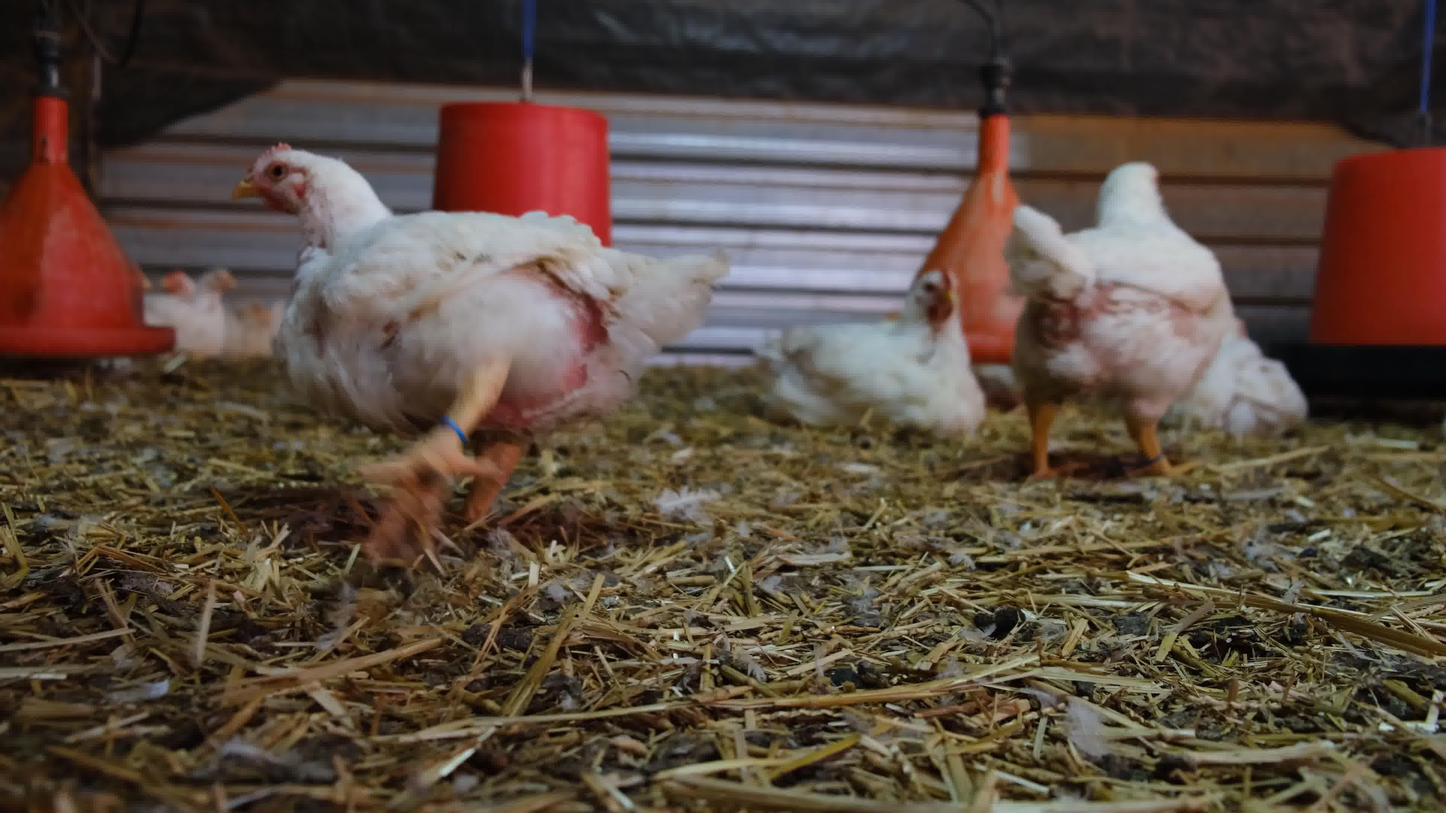AbNormal: (747, 264, 991, 438), (1156, 312, 1309, 437)
Normal: (226, 138, 730, 578), (1001, 158, 1234, 499), (164, 270, 285, 371), (135, 268, 238, 372)
